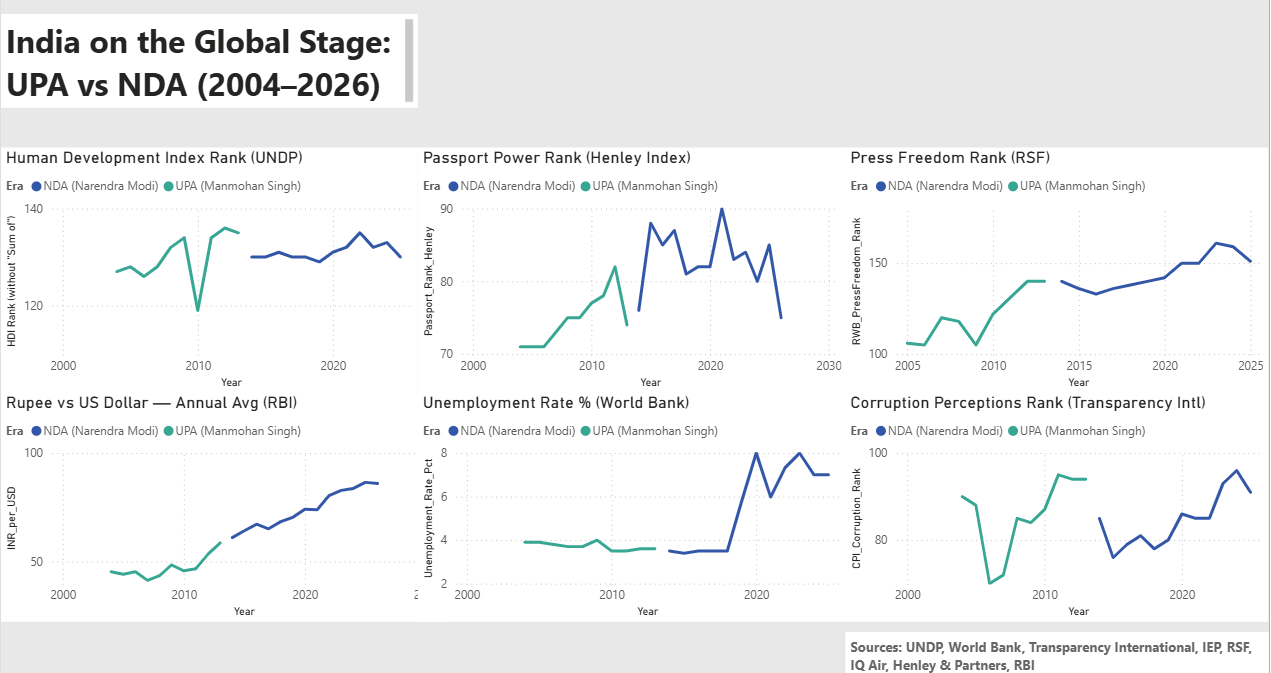

Layout of this report page (visuals, bound fields, positions):
{"tool":"powerbi","page":{"name":"Page 1","canvas":[1280,720],"ordinal":0},"visuals":[{"type":"lineChart","title":" Human Development Index Rank (UNDP)","fields":{"Category":["india_rankings_2004_2026.Year"],"Y":["Sum(india_rankings_2004_2026.HDI_Rank)"],"Series":["india_rankings_2004_2026.Era"]},"box":[0,183,420.8,247.2],"z":1000},{"type":"lineChart","title":"Rupee vs US Dollar — Annual Avg (RBI)","fields":{"Category":["india_rankings_2004_2026.Year"],"Y":["Sum(india_rankings_2004_2026.INR_per_USD)"],"Series":["india_rankings_2004_2026.Era"]},"box":[9.4,430.2,437.8,232.1],"z":2000},{"type":"lineChart","title":" Passport Power Rank (Henley Index)","fields":{"Y":["Sum(india_rankings_2004_2026.Passport_Rank_Henley)"],"Category":["india_rankings_2004_2026.Year"],"Series":["india_rankings_2004_2026.Era"]},"box":[420.8,183,432.1,247.2],"z":3000},{"type":"lineChart","title":"Unemployment Rate % (World Bank)","fields":{"Y":["Sum(india_rankings_2004_2026.Unemployment_Rate_Pct)"],"Category":["india_rankings_2004_2026.Year"],"Series":["india_rankings_2004_2026.Era"]},"box":[420.8,430.2,432.1,232.1],"z":4000},{"type":"lineChart","title":" Corruption Perceptions Rank (Transparency Intl)","fields":{"Y":["Sum(india_rankings_2004_2026.CPI_Corruption_Rank)"],"Category":["india_rankings_2004_2026.Year"],"Series":["india_rankings_2004_2026.Era"]},"box":[852.9,430.2,426.5,232.1],"z":6000},{"type":"textbox","box":[0,49.1,420.8,94.3],"z":7000},{"type":"textbox","box":[852.5,672.3,427,46.9],"z":8000},{"type":"lineChart","title":"Press Freedom Rank (RSF)","fields":{"Category":["india_rankings_2004_2026.Year"],"Y":["Sum(india_rankings_2004_2026.RWB_PressFreedom_Rank)"],"Series":["india_rankings_2004_2026.Era"]},"box":[852.9,183,426.5,247.2],"z":8001}]}

Visuals, with their boxes in screenshot pixels (x1, y1, x2, y2):
" Human Development Index Rank (UNDP)" lineChart: 7/155/423/399
"Rupee vs US Dollar — Annual Avg (RBI)" lineChart: 16/399/449/629
" Passport Power Rank (Henley Index)" lineChart: 423/155/850/399
"Unemployment Rate % (World Bank)" lineChart: 423/399/850/629
" Corruption Perceptions Rank (Transparency Intl)" lineChart: 850/399/1270/629
textbox: 7/22/423/115
textbox: 850/639/1270/672
"Press Freedom Rank (RSF)" lineChart: 850/155/1270/399
